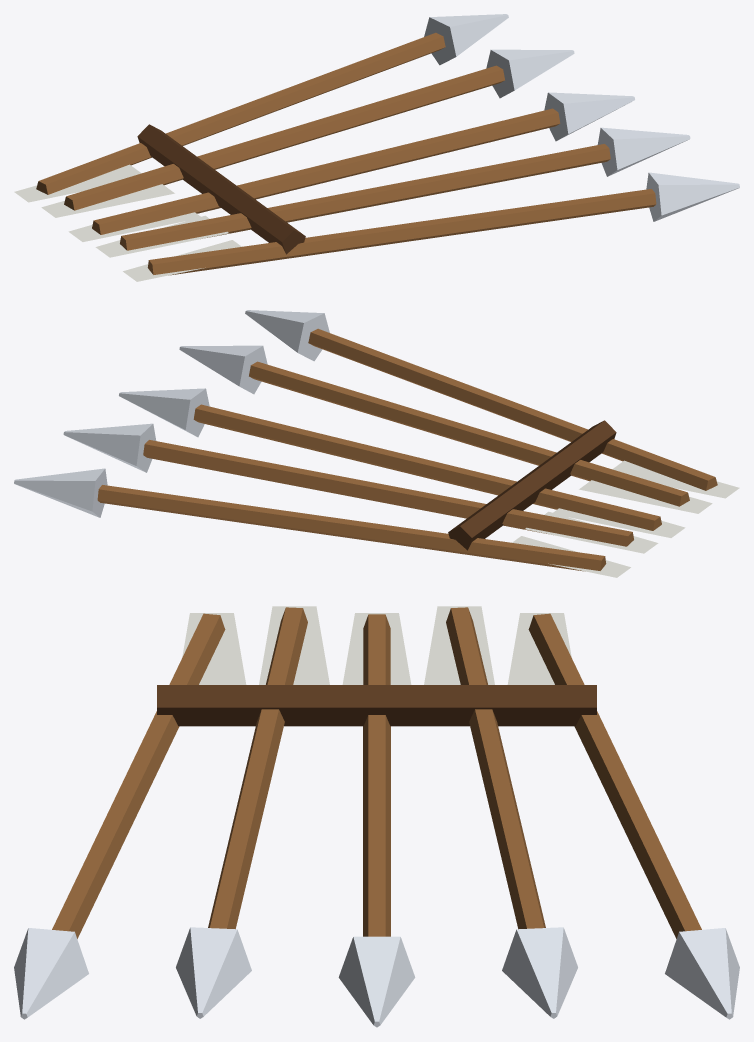
The model's file is drop_steel_arrows.glb.
3 views of the same model, one above another, from view 1: azimuth 30°, elevation 25°; view 2: azimuth 150°, elevation 25°; view 3: azimuth 270°, elevation 25° (orthographic). The views are drawn at different scales.
Parts seen in each view (by area): view 1: drop_steel_arrows; view 2: drop_steel_arrows; view 3: drop_steel_arrows.
Boxes of the visible parts, x1,y1,x2,y2 form: drop_steel_arrows: (14,14,739,281); drop_steel_arrows: (14,310,739,577); drop_steel_arrows: (14,606,739,1027).
Size of the model in its own units: 0.535 by 0.0438 by 0.3958.
